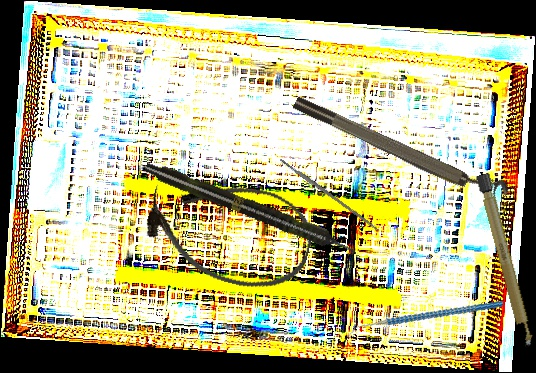Cannula: (137, 163, 321, 301)
Chopper: (347, 275, 504, 364)
Fixation Ring: (290, 83, 512, 213)
Handpiece: (142, 157, 360, 262)
Scalpel Handle: (475, 172, 536, 350), (279, 156, 380, 233)
